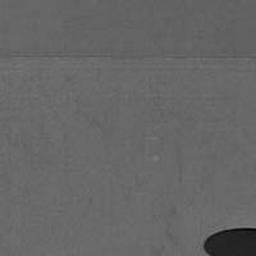Punching: (202, 227, 256, 256)
